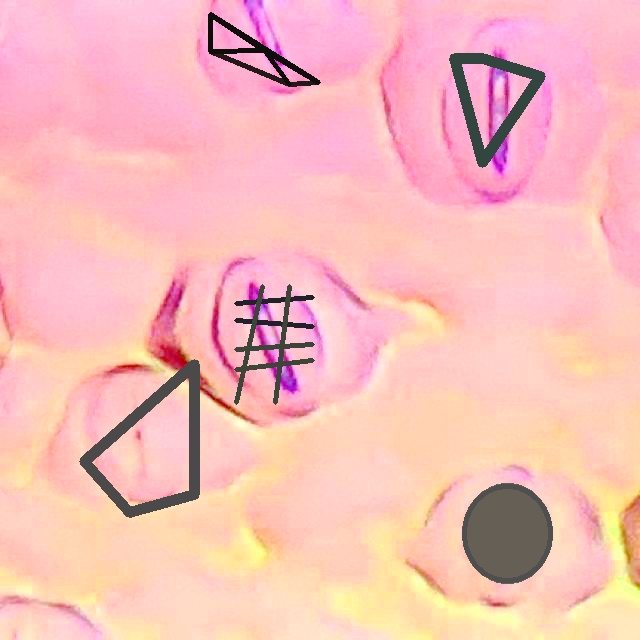close: (80, 360, 198, 517)
open: (449, 54, 544, 167), (234, 284, 314, 403), (462, 483, 552, 582), (209, 13, 319, 86)
